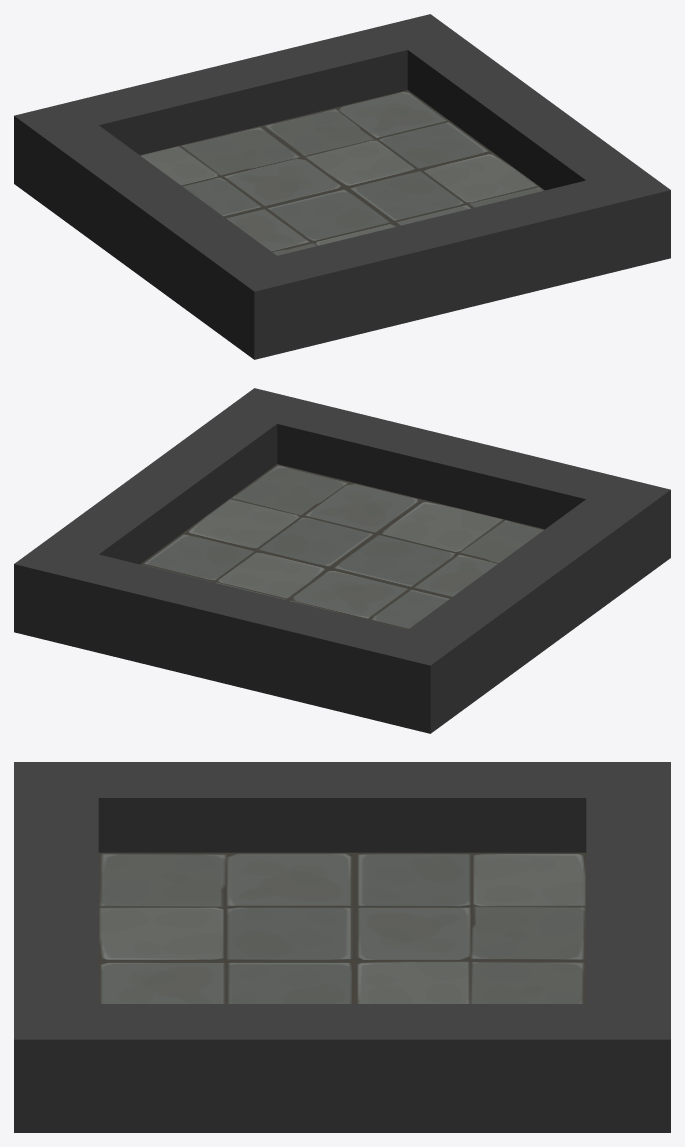
File: RoofTop_A4.fbx
The picture shows the model from 3 angles, top to bottom: view 1: azimuth 30°, elevation 25°; view 2: azimuth 150°, elevation 25°; view 3: azimuth 270°, elevation 25°; orthographic projection. The views are drawn at different scales.
Visible parts, largest first — view 1: RoofTop_A4; view 2: RoofTop_A4; view 3: RoofTop_A4.
Boxes of the visible parts, left/top/right/bottom form: RoofTop_A4: left=14, top=14, right=670, bottom=359; RoofTop_A4: left=14, top=388, right=670, bottom=733; RoofTop_A4: left=14, top=762, right=670, bottom=1132.
Bounding box in the file's own units: 620 × 97.06 × 620.
